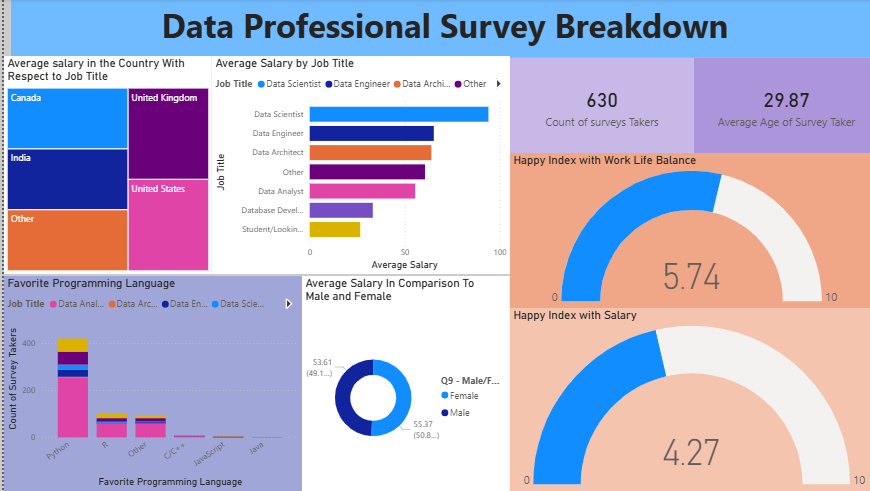

What the dashboard file says about the page in this screenshot:
{"tool":"powerbi","page":{"name":"Page 1","canvas":[1280,720],"ordinal":0},"visuals":[{"type":"textbox","box":[10.1,0,1269.9,85.7],"z":0},{"type":"card","fields":{"Values":["CountNonNull(Data Professional Survey.Unique ID)"]},"box":[740.5,86.3,269.3,139],"z":1000},{"type":"card","fields":{"Values":["Avg(Data Professional Survey.Q10 - Current Age)"]},"box":[1009.8,86.3,270.7,139],"z":2000},{"type":"barChart","title":"Average Salary by Job Title","fields":{"Category":["Data Professional Survey.Q1 - Which Title Best Fits your Current Role?.1"],"Y":["Avg(Data Professional Survey.Average Salary)"],"Series":["Data Professional Survey.Q1 - Which Title Best Fits your Current Role?.1"]},"box":[304.4,83.4,436.1,319],"z":3000},{"type":"columnChart","title":"Favorite Programming Language","fields":{"Category":["Data Professional Survey.Q5 - Favorite Programming Language.1"],"Y":["CountNonNull(Data Professional Survey.Unique ID)"],"Series":["Data Professional Survey.Q1 - Which Title Best Fits your Current Role?.1"]},"box":[0,405.4,436.1,314.6],"z":4000},{"type":"treemap","title":"Average salary in the Country With Respect to Job Title","fields":{"Group":["Data Professional Survey.Q11 - Which Country do you live in?.1"],"Values":["Count(Data Professional Survey.Q11 - Which Country do you live in?.1)"]},"box":[0,83.4,304.4,319],"z":5000},{"type":"gauge","title":"Happy Index with Work Life Balance ","fields":{"Y":["Avg(Data Professional Survey.Q6 - How Happy are you in your Current Position with the following? (Work/Life Balance))"],"MinValue":["Min(Data Professional Survey.Q6 - How Happy are you in your Current Position with the following? (Work/Life Balance))"],"MaxValue":["Max(Data Professional Survey.Q6 - How Happy are you in your Current Position with the following? (Work/Life Balance))1"]},"box":[740.5,225.4,540,226.8],"z":6000},{"type":"gauge","title":"Happy Index with Salary","fields":{"Y":["Avg(Data Professional Survey.Q6 - How Happy are you in your Current Position with the following? (Salary))"],"MinValue":["Min(Data Professional Survey.Q6 - How Happy are you in your Current Position with the following? (Salary))"],"MaxValue":["Max(Data Professional Survey.Q6 - How Happy are you in your Current Position with the following? (Salary))"]},"box":[740.5,452.2,540,267.8],"z":7000},{"type":"donutChart","title":"Average Salary In Comparison To Male and Female","fields":{"Category":["Data Professional Survey.Q9 - Male/Female?"],"Y":["Avg(Data Professional Survey.Average Salary)"]},"box":[436.1,405.4,304.4,314.6],"z":8000}]}

Visuals, with their boxes in screenshot pixels (x1, y1, x2, y2), scaled from the page's 1280x720 canvas onto the 870x491 screenshot:
textbox: rect(7, 0, 869, 58)
card - CountNonNull(Data Professional Survey.Unique ID): rect(503, 59, 686, 154)
card - Avg(Data Professional Survey.Q10 - Current Age): rect(686, 59, 869, 154)
"Average Salary by Job Title" barChart: rect(207, 57, 503, 274)
"Favorite Programming Language" columnChart: rect(0, 276, 296, 490)
"Average salary in the Country With Respect to Job Title" treemap: rect(0, 57, 207, 274)
"Happy Index with Work Life Balance " gauge: rect(503, 154, 869, 308)
"Happy Index with Salary" gauge: rect(503, 308, 869, 490)
"Average Salary In Comparison To Male and Female" donutChart: rect(296, 276, 503, 490)
